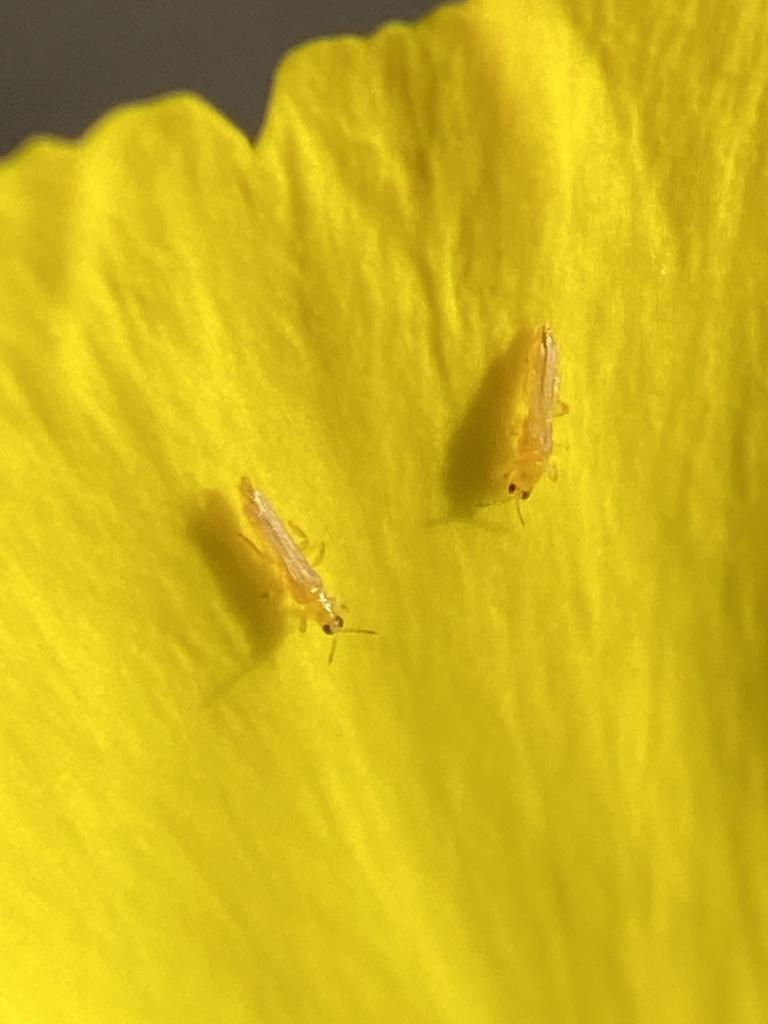tiny_pests: (190, 451, 411, 700), (459, 311, 613, 544)
